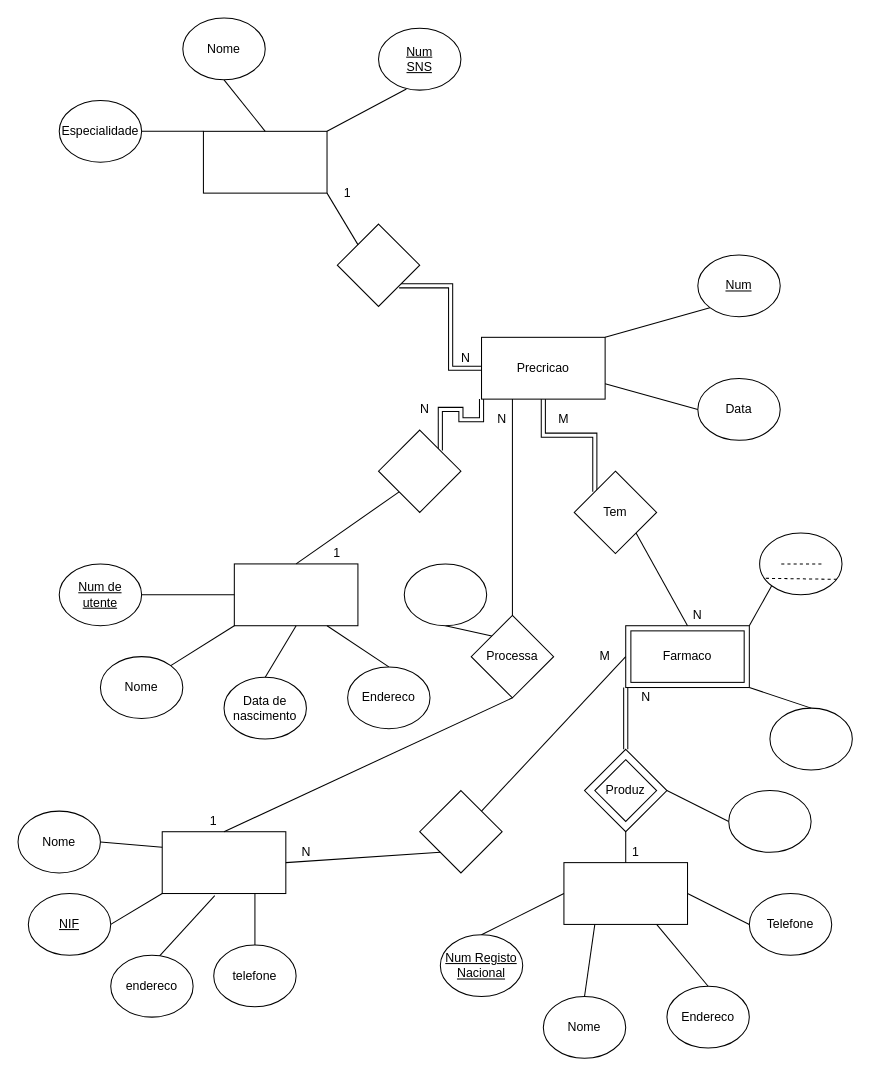
The diagram is 870 pixels wide and 1076 high, and some of its shapes have lost their labels. The shapes that lost their labels are listed below. From the top down, each one's centre as x and y in pixels, then its label:
At [264,161]: "Medico".
At [378,264]: "Efetua".
At [419,470]: "Para".
At [800,563]: "Nome Comercial".
At [295,594]: "Paciente".
At [445,594]: "Data de Processamento".
At [810,738]: "Formula".
At [460,831]: "Vende".
At [769,820]: "Nome Unico".
At [223,862]: "Farmacia".
At [625,893]: "Farmaceutica".
